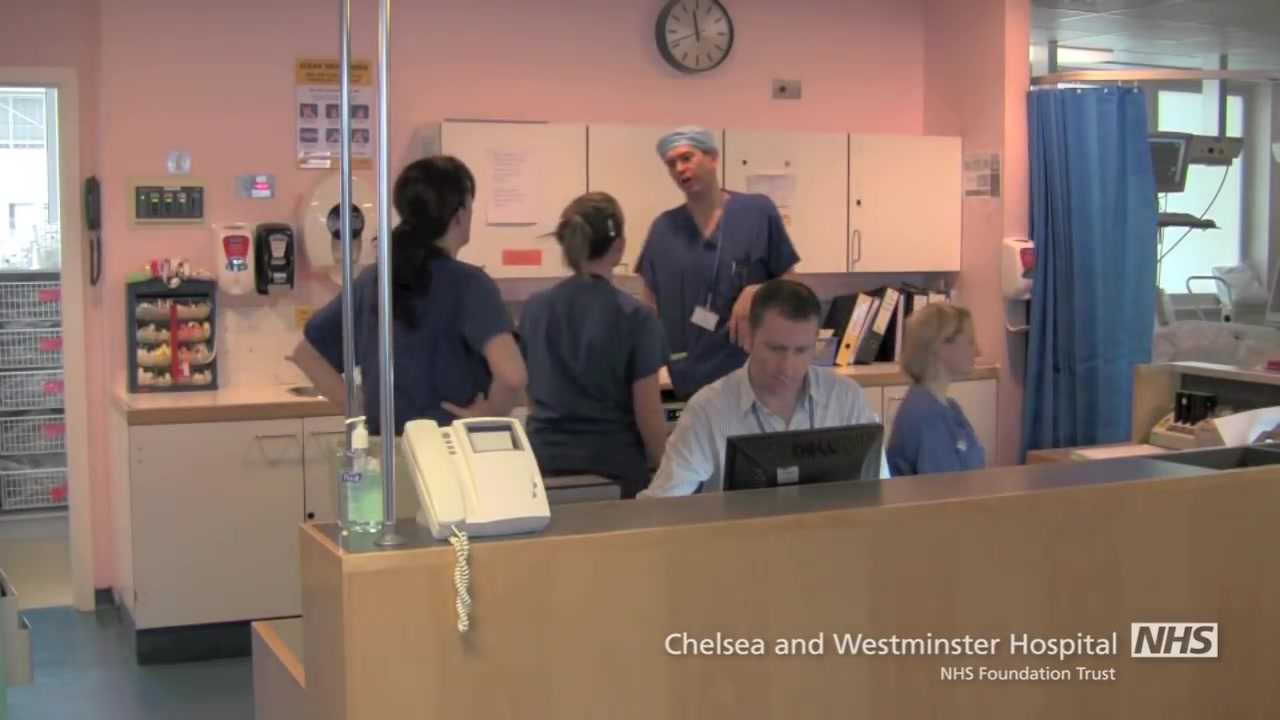bedside_monitor: (1167, 361, 1280, 417), (1142, 136, 1188, 192)
cabinet: (423, 122, 971, 278)
computer: (722, 421, 886, 492)
counter: (233, 448, 1280, 720), (95, 360, 993, 654)
countertop: (299, 445, 1280, 559), (107, 382, 362, 423)
curtain: (1015, 79, 1159, 468)
dispenser: (297, 168, 386, 275), (332, 411, 388, 554), (1001, 235, 1036, 333), (251, 222, 294, 297), (212, 221, 254, 297)
handle: (253, 431, 300, 445), (310, 426, 347, 442), (852, 228, 864, 267)
staff: (293, 155, 527, 436), (635, 279, 891, 498), (633, 126, 801, 402), (520, 191, 670, 499), (885, 301, 987, 477)
telephone: (401, 416, 551, 634), (83, 170, 104, 286)
